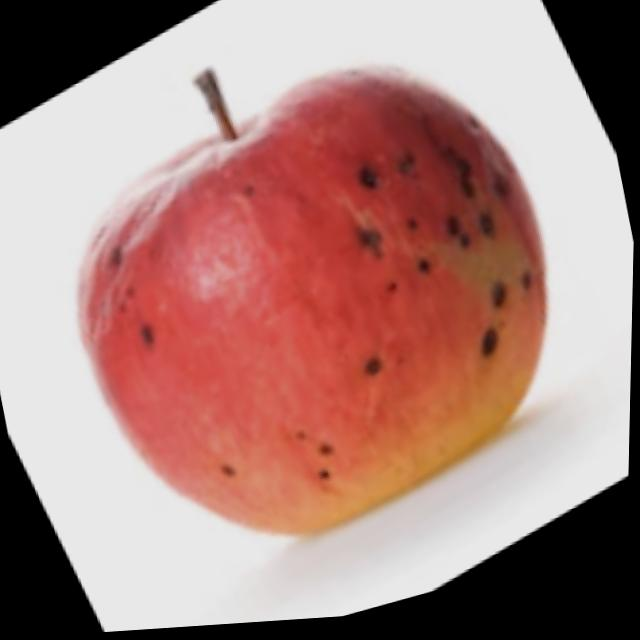organik: (16, 0, 630, 596)
